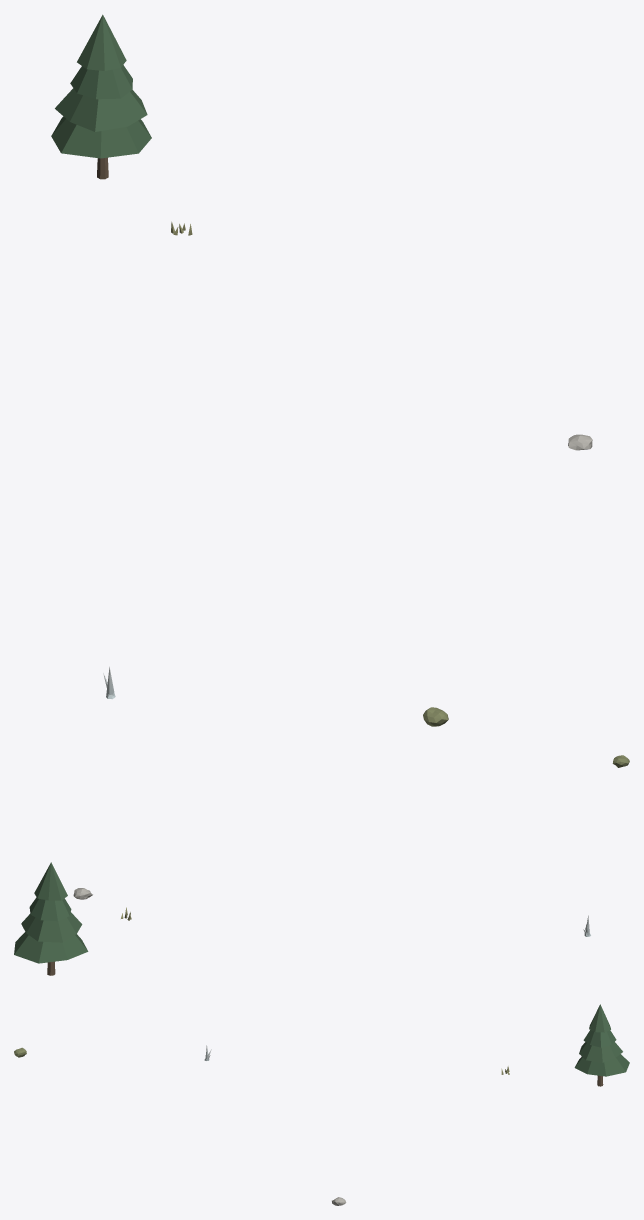
File: coast_land_scatter_c14_19.glb
The picture shows the model from 3 angles, top to bottom: view 1: azimuth 30°, elevation 25°; view 2: azimuth 150°, elevation 25°; view 3: azimuth 270°, elevation 25°; orthographic projection. The views are drawn at different scales.
Visible parts, largest first — view 1: coast_land_scatter_c14_19; view 2: coast_land_scatter_c14_19; view 3: coast_land_scatter_c14_19.
Boxes of the visible parts, left/top/right/bottom form: coast_land_scatter_c14_19: left=51, top=14, right=592, bottom=726; coast_land_scatter_c14_19: left=14, top=755, right=629, bottom=975; coast_land_scatter_c14_19: left=14, top=1004, right=629, bottom=1205.
Bounding box in the file's own units: 40.03 × 18.65 × 69.28.
